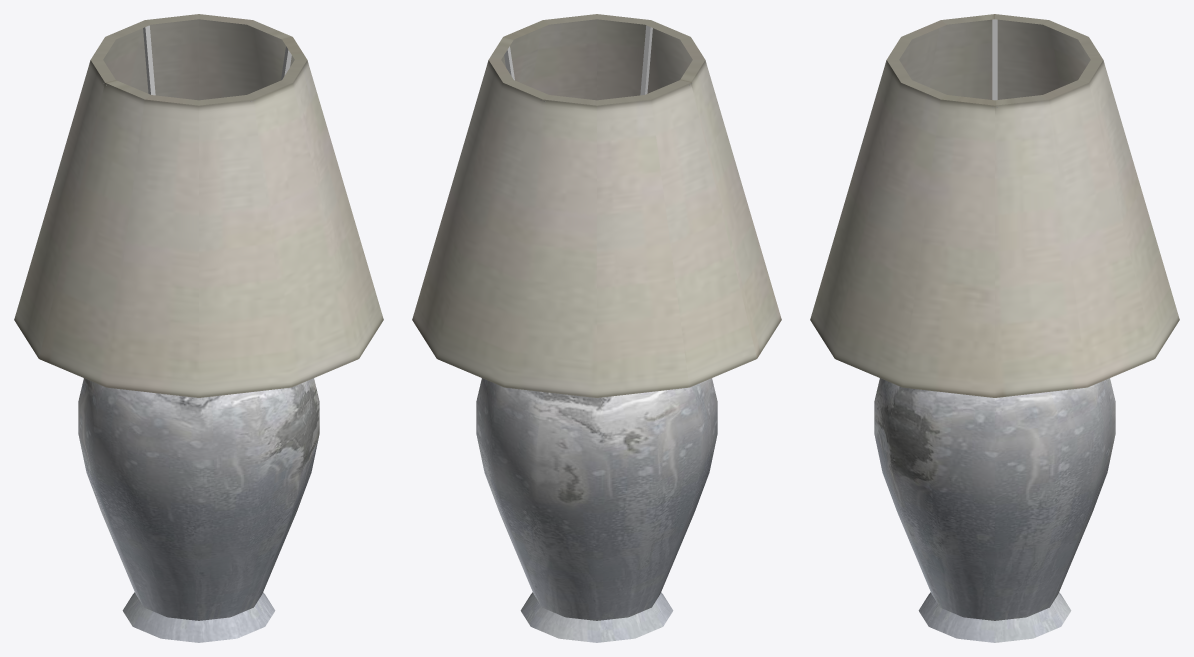
The model's file is TableLamp02.fbx.
3 renders of one model, left to right at view 1: azimuth 30°, elevation 25°; view 2: azimuth 150°, elevation 25°; view 3: azimuth 270°, elevation 25°, orthographic.
Visible parts, largest first — view 1: Tulipa, Base, Tulipa2, Metal; view 2: Tulipa, Base, Tulipa2, Metal; view 3: Tulipa, Base, Tulipa2.
Part boxes in pixels (<box>): Tulipa: <box>14,14,383,397</box>; Base: <box>78,378,319,642</box>; Tulipa2: <box>14,14,382,397</box>; Metal: <box>103,25,291,101</box>; Tulipa: <box>412,14,781,397</box>; Base: <box>476,378,717,642</box>; Tulipa2: <box>412,14,781,397</box>; Metal: <box>504,25,692,101</box>; Tulipa: <box>810,14,1179,397</box>; Base: <box>874,378,1115,642</box>; Tulipa2: <box>811,14,1178,397</box>.
Bounding box in the file's own units: 0.36 × 0.5917 × 0.36.
